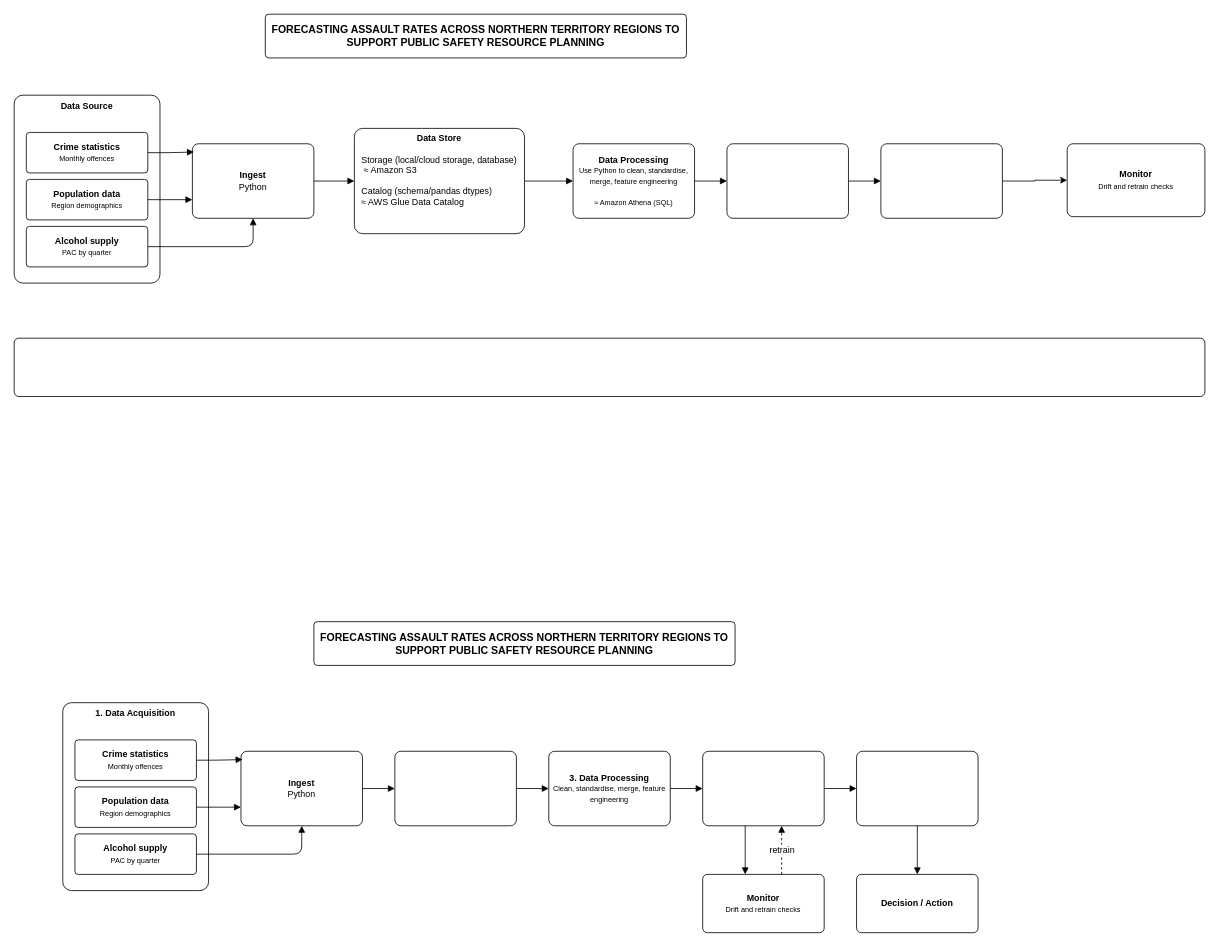
This 1219x947 diagram has some shape labels left out. The centre of each missing label's shape, as x and y in pixels:
"2. Data Storage" belongs at point (455, 788).
"4. Analytics / ML Ridge regression, lag features" belongs at point (763, 788).
"5. Visualisation for PFES" belongs at point (917, 788).
"Analytics / ML Ridge regression, lag features ≈ Amazon SageMaker" belongs at point (787, 180).
"Dashboard for PFES ≈ Amazon QuickSight" belongs at point (941, 180).
"Governance layer privacy, se curity, risk, reproducibility ≈ IAM, Lake Formation" belongs at point (609, 366).
